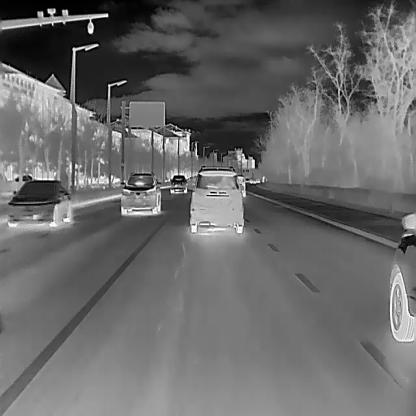car: (189, 165, 244, 232), (389, 210, 415, 342), (6, 178, 70, 226), (120, 170, 160, 214), (170, 174, 187, 192), (237, 173, 245, 196), (14, 174, 32, 181), (260, 174, 264, 182)
